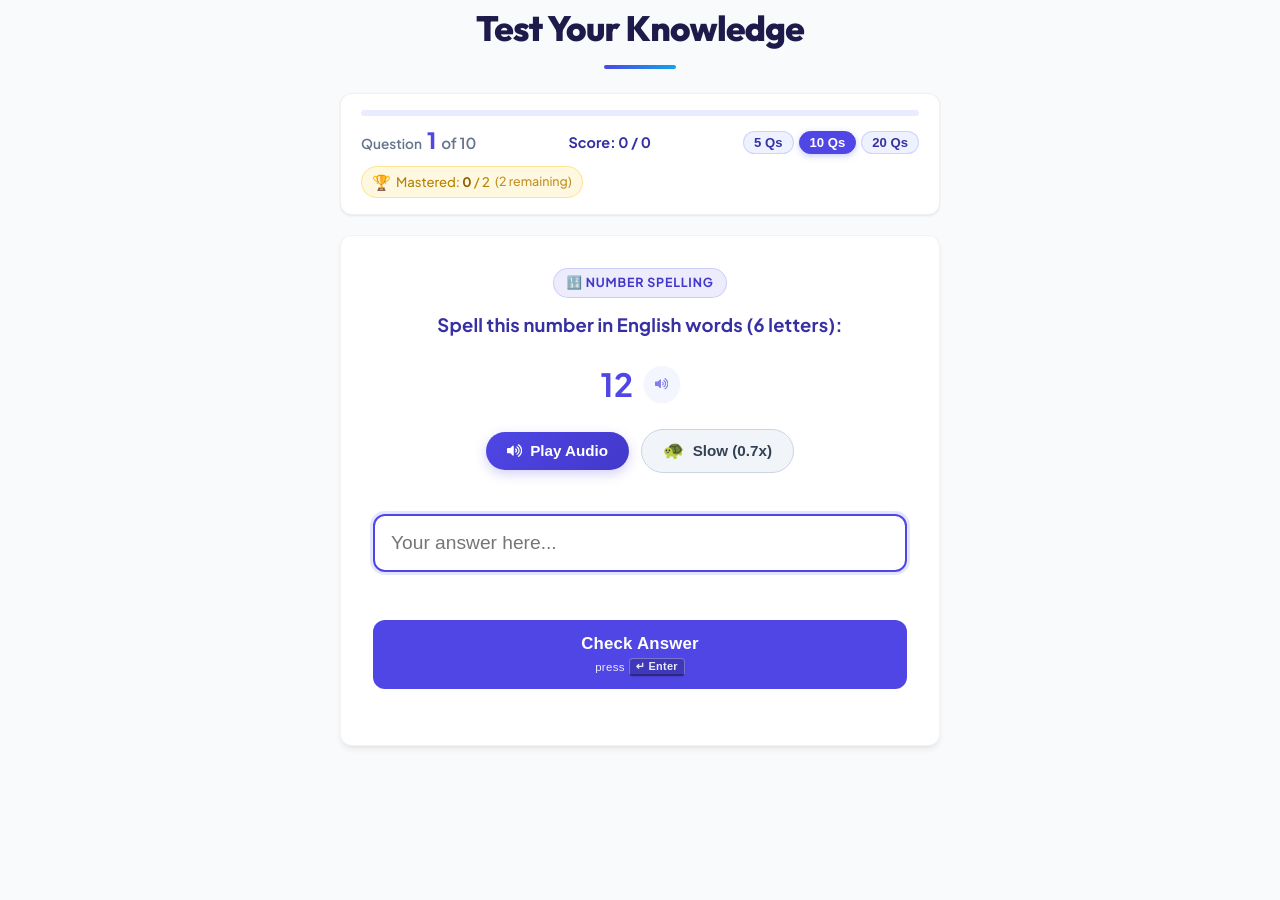
it: Quiz Component - Session Goals & Mastery Filtering › renders English number questions and accepts digit and word spellings
Expected: the text "🔢 Number Spelling" is shown, top-left (553, 268), bottom-right (726, 298)
Expected: the text "12" is shown, top-left (600, 358), bottom-right (634, 410)
Type "twelve" into the field with placeholder "Your answer here..." at (640, 543), box top-left (373, 514), bottom-right (907, 572)
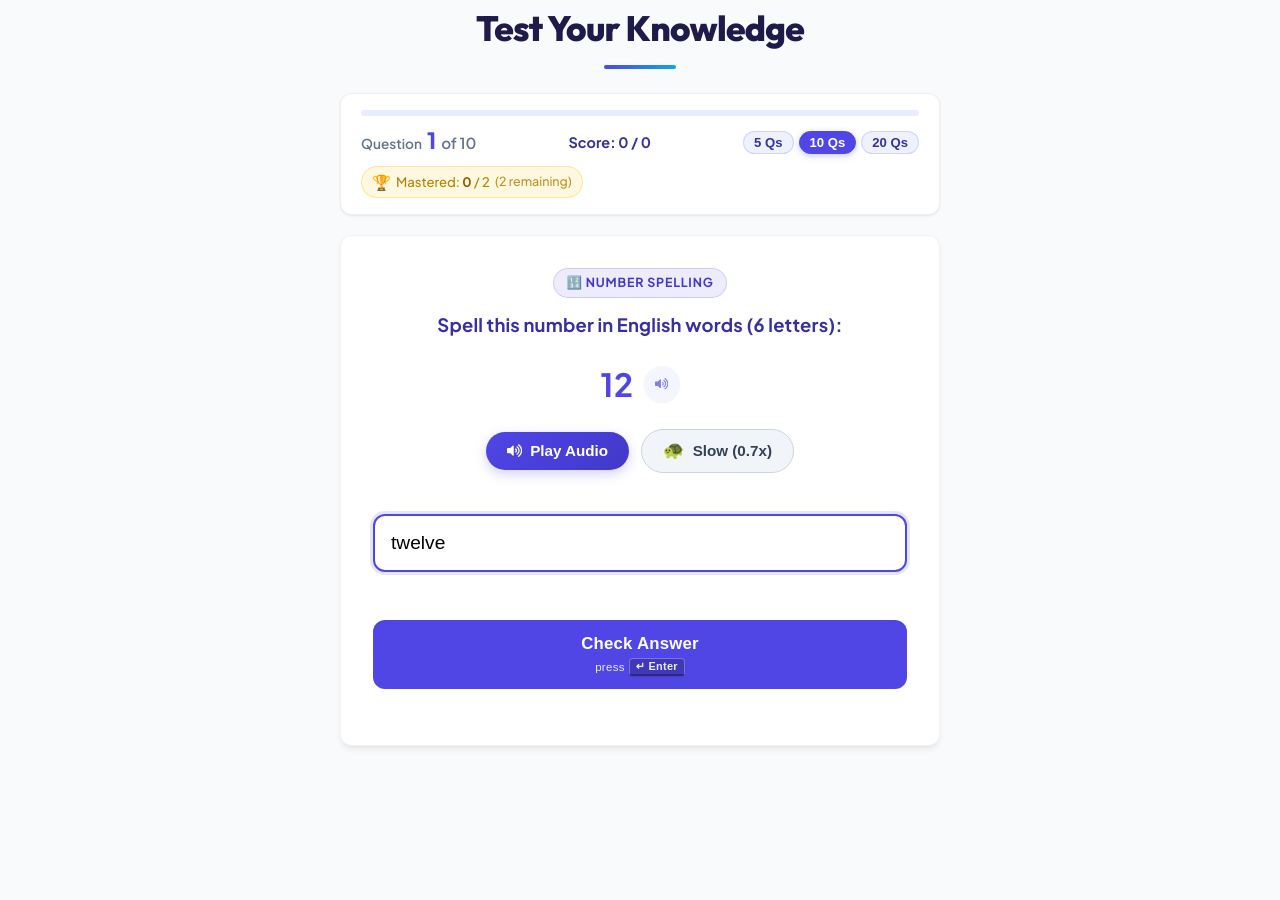
Click the button "Check Answer press ↵ Enter" at (640, 655), box top-left (373, 620), bottom-right (907, 690)
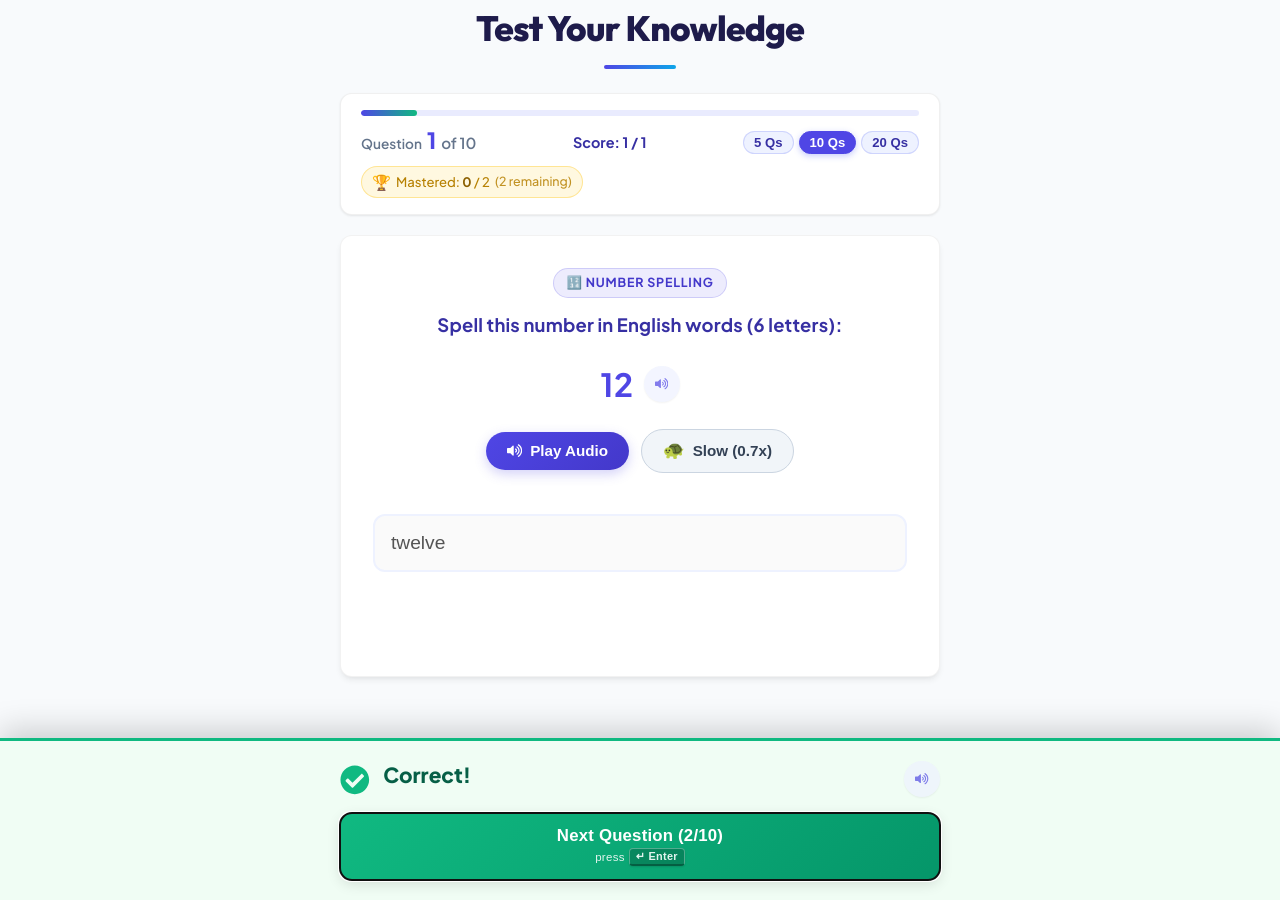
Expected: the text "Correct!" is shown, top-left (383, 763), bottom-right (471, 788)
